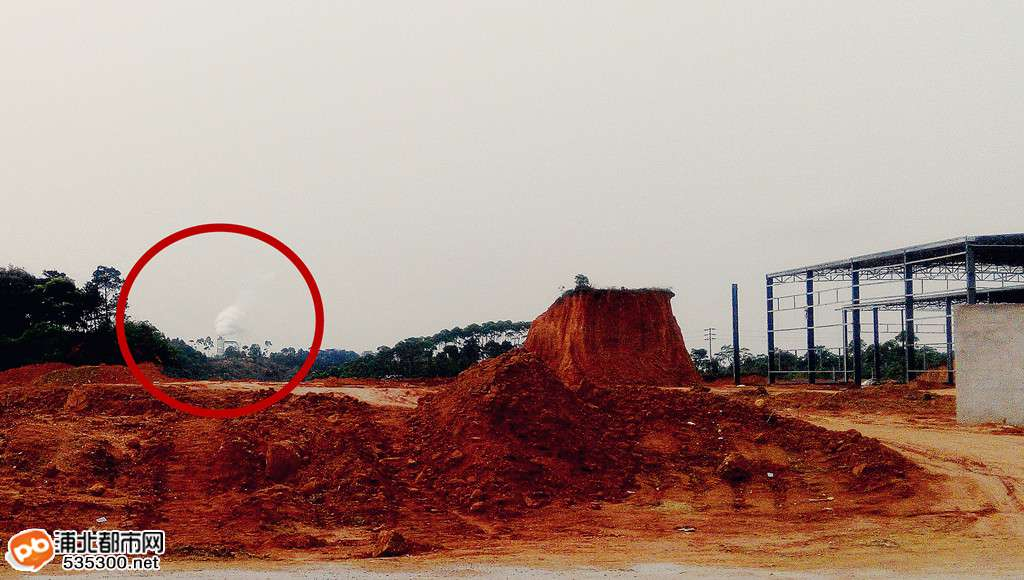dust: (199, 278, 274, 351)
